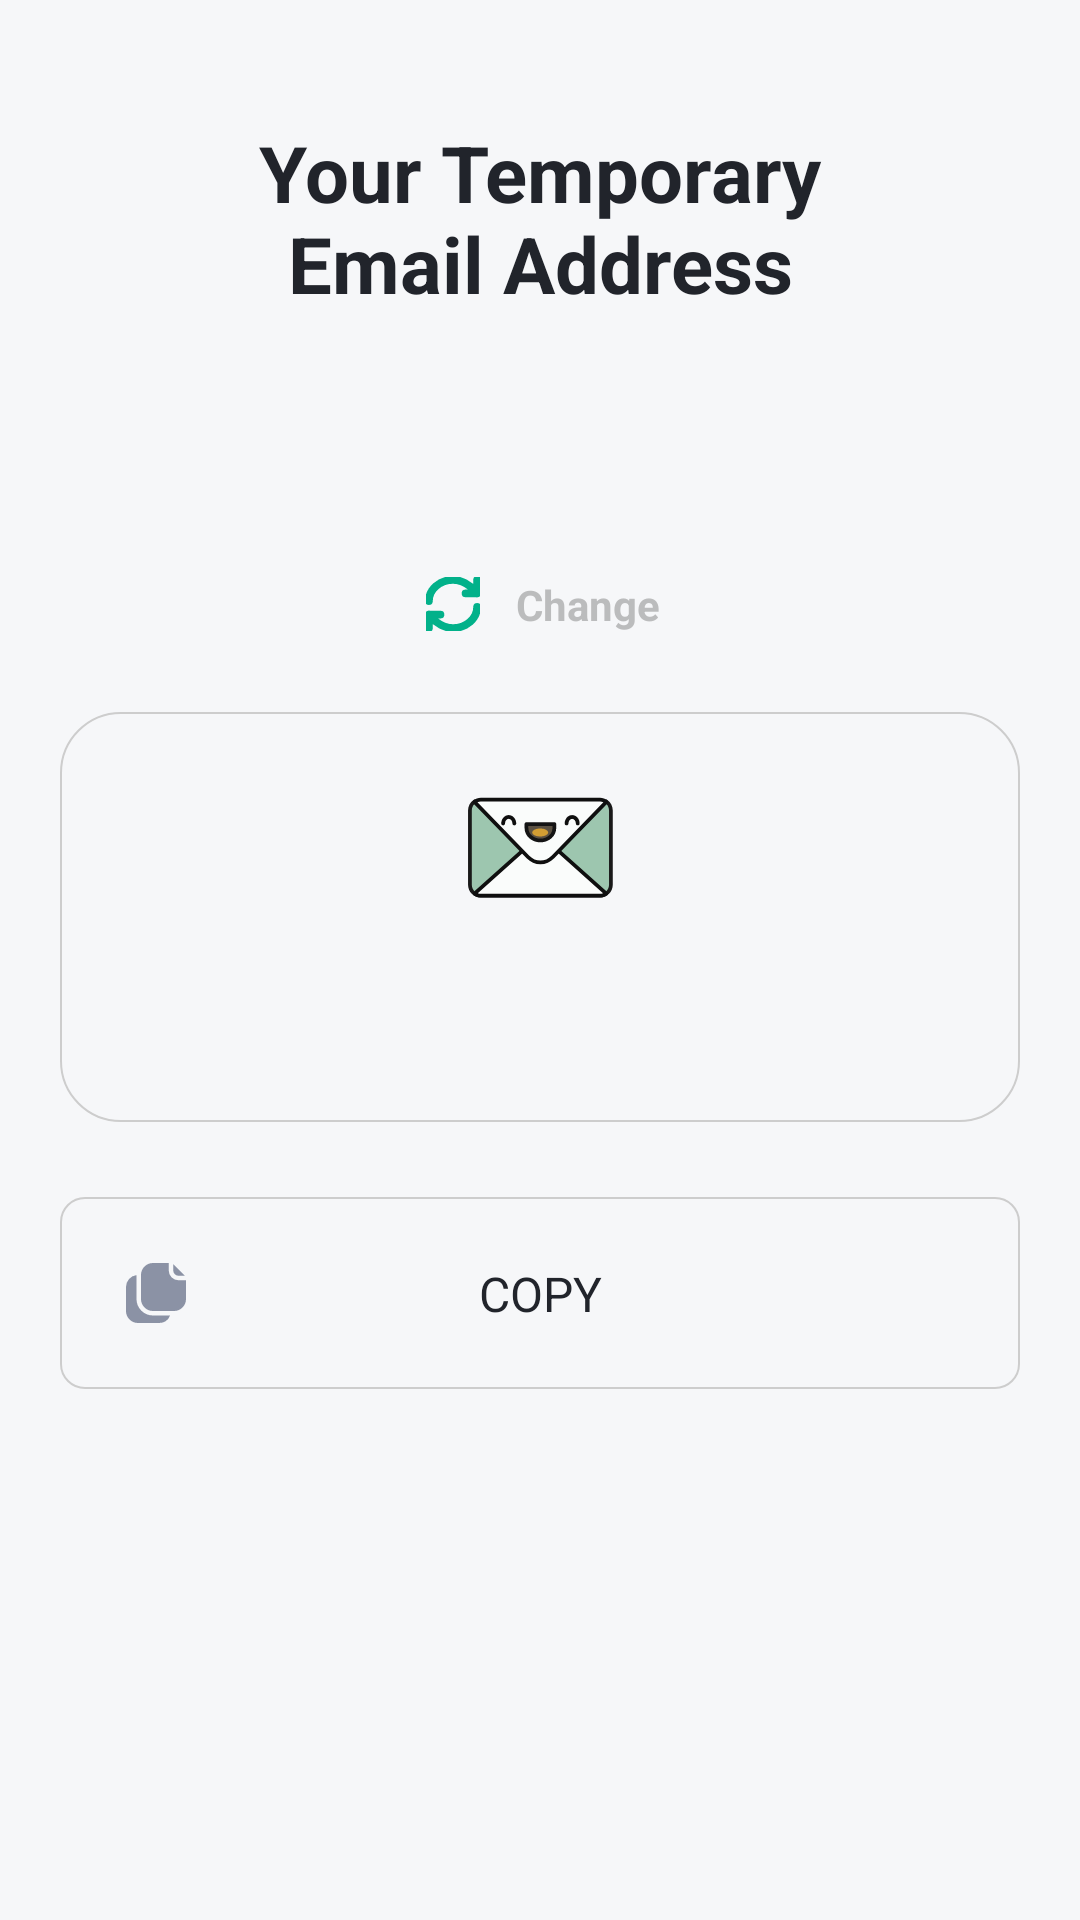

Where icons sit on this 1080×1920 app screen, as (x1, y1, x2, y2):
mail: (468, 797, 613, 898)
refresh: (426, 577, 480, 631)
